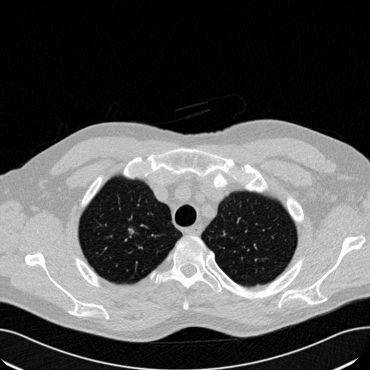nodule: (127, 227, 135, 235)
